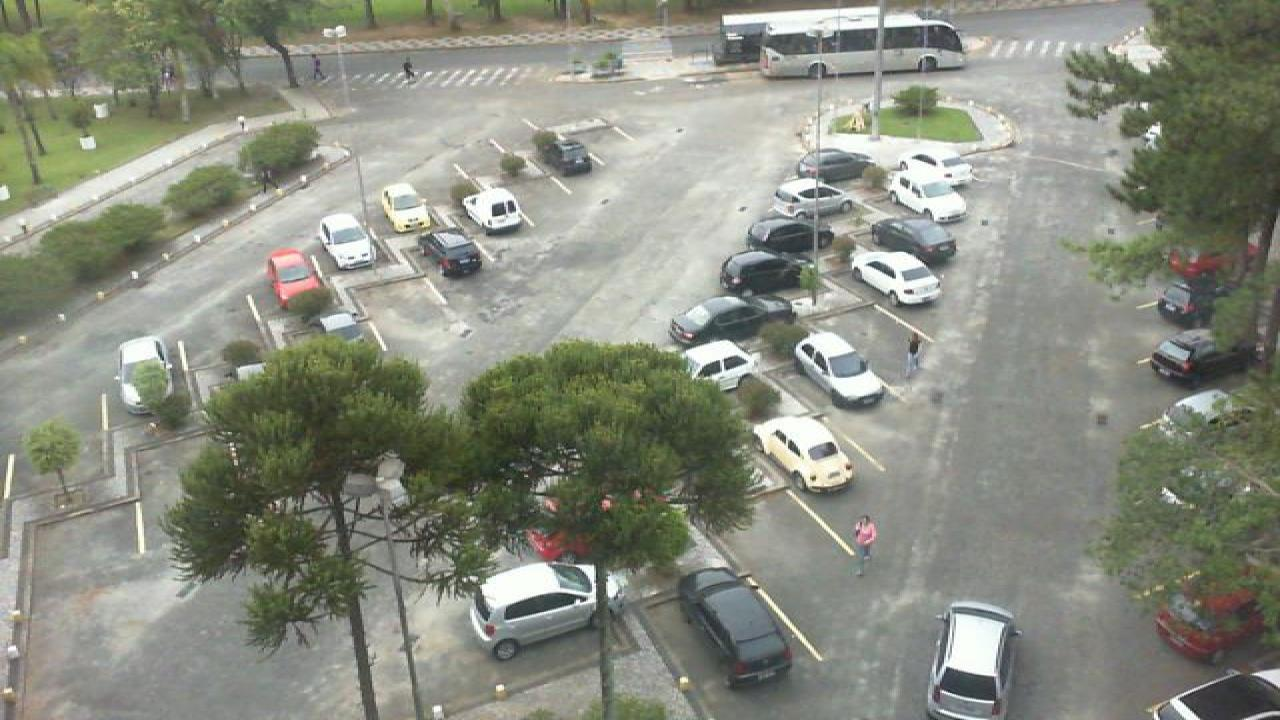Car: (464, 559, 618, 662), (674, 566, 794, 692), (924, 601, 1022, 720), (1150, 584, 1260, 664), (752, 414, 856, 495), (792, 330, 888, 410), (1152, 669, 1280, 720), (666, 294, 786, 346), (848, 249, 944, 306), (1148, 328, 1248, 382), (112, 336, 172, 417), (674, 338, 762, 392), (718, 248, 816, 296), (884, 169, 970, 223), (266, 248, 330, 316), (1158, 388, 1240, 440), (868, 218, 960, 264), (746, 216, 838, 259), (314, 212, 380, 270), (770, 176, 858, 219), (414, 228, 486, 279), (1156, 276, 1224, 330), (460, 186, 528, 236), (884, 152, 976, 187), (380, 181, 436, 234), (794, 148, 874, 184), (540, 132, 596, 178), (302, 312, 368, 350)
